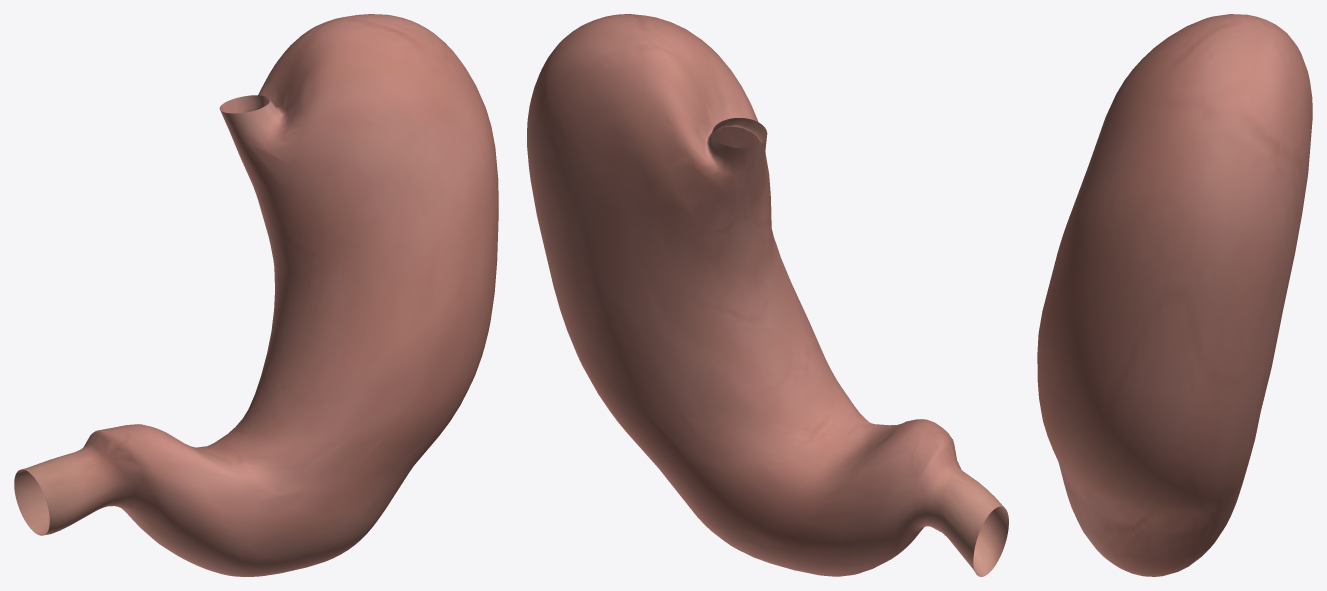
Rendered from overview.glb.
The picture shows the model from 3 angles, left to right: view 1: azimuth 30°, elevation 25°; view 2: azimuth 150°, elevation 25°; view 3: azimuth 270°, elevation 25°; orthographic projection. The views are drawn at different scales.
Parts seen in each view (by area): view 1: stomach; view 2: stomach; view 3: stomach.
Part boxes in pixels (x1,y1,x2,y2): stomach: [14, 14, 498, 576]; stomach: [527, 14, 1008, 576]; stomach: [1037, 14, 1312, 576].
Bounding box in the file's own units: 0.1621 × 0.1744 × 0.0729.
2 materials, 2 textured.
